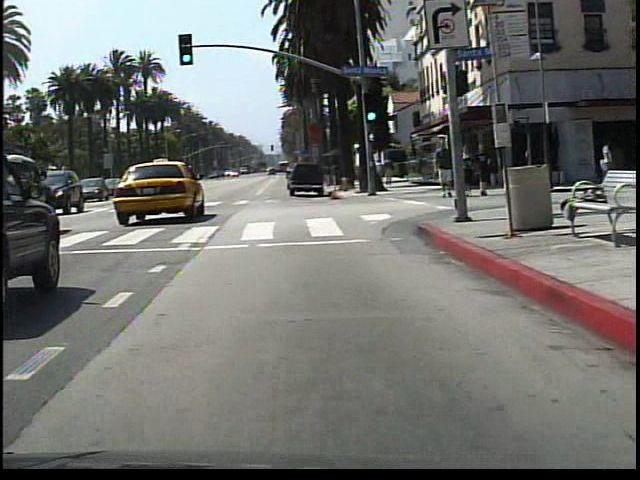person: (432, 140, 452, 204), (596, 137, 613, 187)
